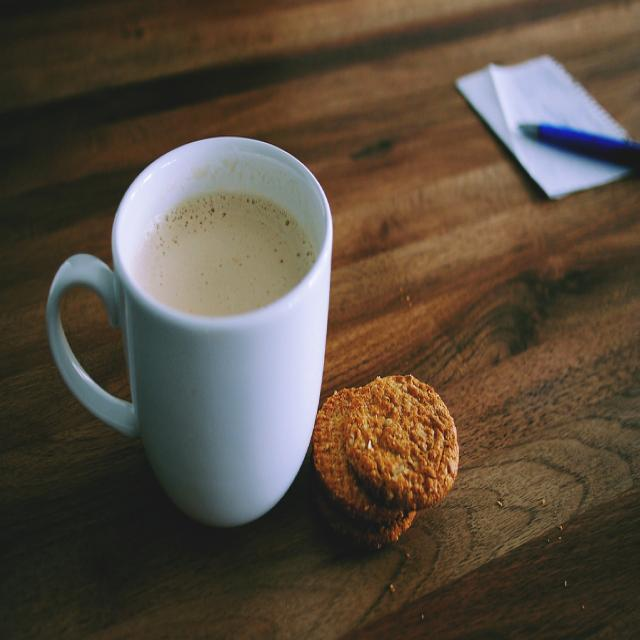Coffee: (43, 132, 334, 530), (131, 188, 314, 310)
